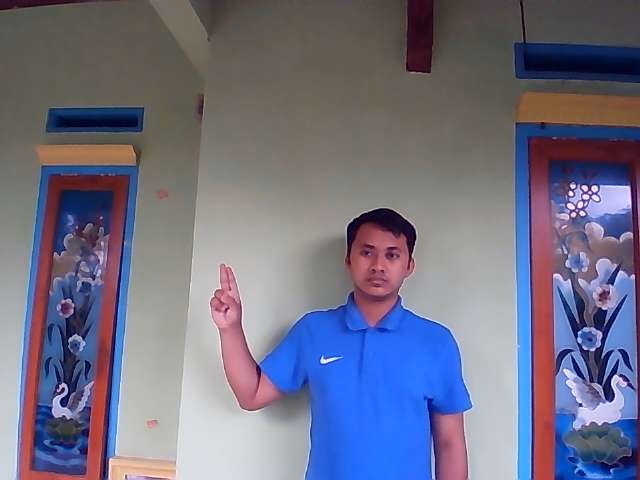U: (209, 262, 243, 329)
